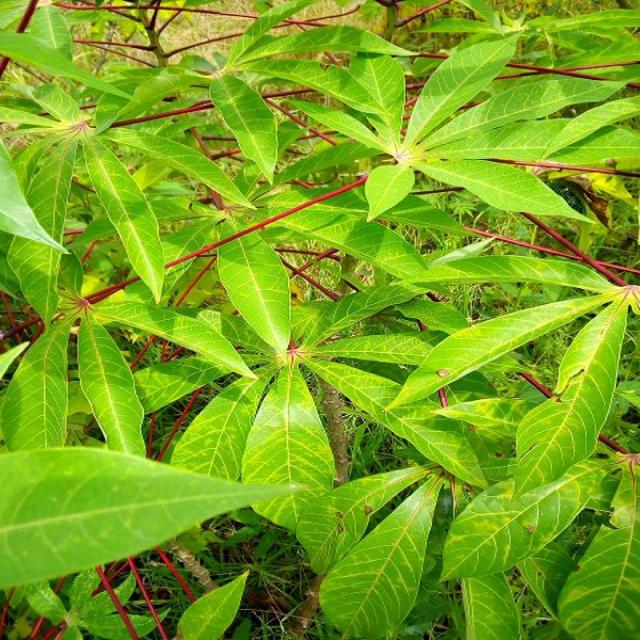cassava leaf: (0, 2, 638, 636), (0, 442, 306, 588), (216, 227, 291, 356)
